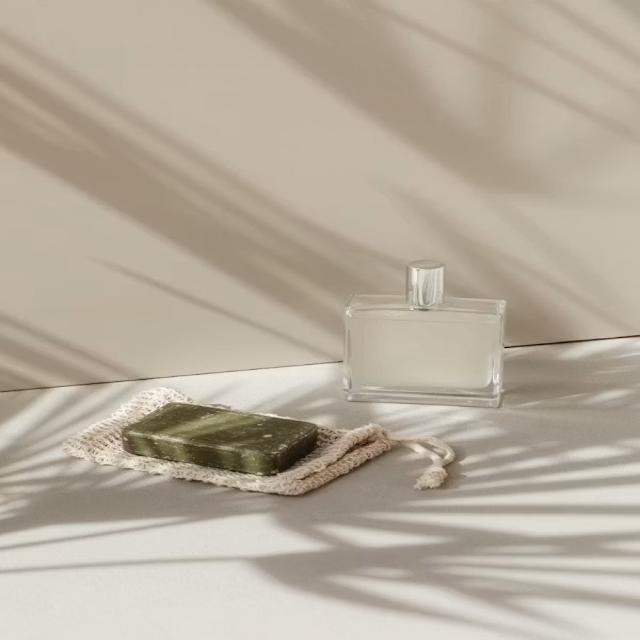Bottle: (345, 261, 505, 407)
